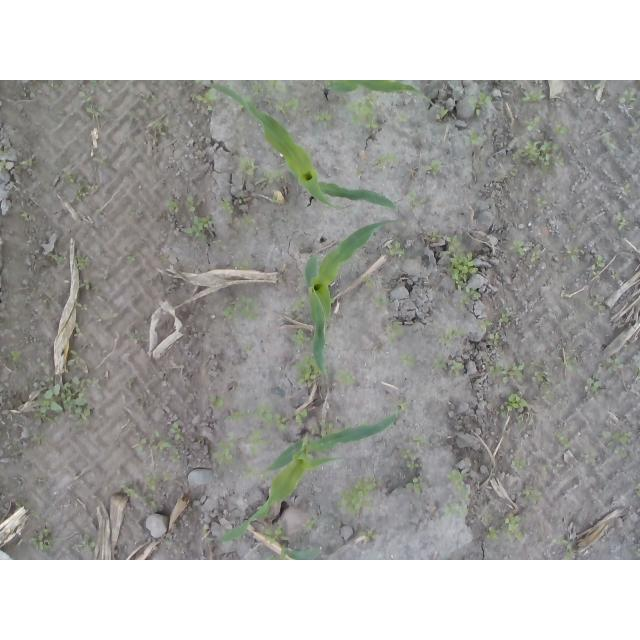Maize: (205, 81, 395, 212), (225, 411, 400, 541), (303, 218, 401, 378), (319, 80, 441, 109), (274, 540, 322, 561)
Weeds: (33, 376, 96, 424), (445, 235, 481, 305), (509, 140, 563, 177), (337, 473, 378, 519), (348, 91, 383, 129), (487, 511, 525, 542), (485, 358, 528, 384), (223, 291, 258, 321), (253, 401, 287, 431), (178, 215, 214, 242), (529, 367, 555, 401), (494, 392, 530, 416), (66, 172, 96, 200), (210, 432, 234, 466), (447, 471, 471, 502), (601, 431, 632, 455), (468, 89, 495, 116), (191, 87, 218, 114), (245, 428, 271, 456), (134, 432, 172, 451), (431, 356, 466, 376), (512, 238, 541, 262), (435, 327, 466, 349), (296, 358, 320, 386), (31, 528, 55, 553), (257, 169, 284, 190), (385, 320, 408, 344), (309, 420, 340, 437), (251, 80, 280, 97), (272, 95, 299, 112), (441, 503, 467, 520), (373, 152, 399, 169), (401, 448, 418, 473), (314, 111, 336, 130), (523, 487, 546, 505), (591, 254, 607, 278), (7, 351, 26, 370), (407, 191, 426, 210), (618, 87, 638, 105), (239, 158, 257, 178), (30, 287, 49, 305), (335, 367, 354, 385), (120, 483, 142, 498), (601, 356, 626, 369), (522, 88, 545, 102), (264, 527, 284, 543), (406, 477, 423, 495), (168, 423, 184, 442), (586, 375, 602, 394), (555, 432, 572, 449), (400, 352, 417, 369), (74, 254, 90, 272), (466, 127, 482, 145), (295, 407, 308, 429), (510, 457, 530, 471), (79, 536, 96, 552), (150, 120, 167, 136), (208, 395, 226, 410), (562, 354, 578, 370), (67, 349, 81, 367), (372, 290, 387, 306), (145, 475, 159, 492), (387, 241, 401, 258), (240, 466, 258, 479), (291, 297, 303, 316), (32, 434, 49, 447), (160, 199, 180, 210), (302, 518, 320, 530), (487, 332, 502, 346), (358, 530, 374, 543), (48, 252, 65, 264), (223, 411, 241, 422), (141, 497, 159, 508), (566, 248, 578, 264), (80, 279, 97, 290), (240, 215, 257, 226), (528, 117, 540, 132), (615, 214, 625, 232), (430, 160, 442, 175), (296, 329, 305, 348), (19, 210, 32, 223), (436, 106, 448, 120), (413, 433, 425, 447), (562, 544, 572, 560), (478, 319, 494, 329), (498, 312, 510, 325), (556, 127, 573, 136), (78, 81, 86, 100), (1, 161, 16, 171), (36, 357, 48, 369), (222, 198, 233, 211), (427, 231, 441, 241), (399, 400, 410, 412), (186, 194, 194, 210), (621, 183, 632, 194), (363, 277, 374, 288), (18, 158, 33, 166), (169, 452, 179, 464), (241, 260, 254, 269), (590, 81, 600, 92), (535, 197, 546, 207), (237, 193, 247, 204), (87, 104, 97, 115), (76, 303, 89, 311), (355, 167, 365, 177), (128, 256, 138, 265), (398, 114, 408, 123), (75, 320, 80, 336), (244, 344, 252, 352), (542, 464, 550, 472), (143, 111, 149, 121), (192, 80, 204, 84), (635, 367, 640, 376)
